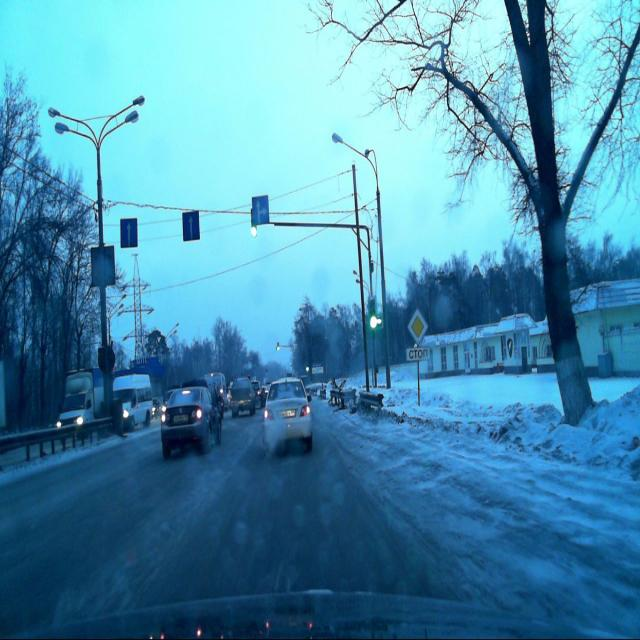object: (182, 210, 202, 244), (252, 194, 270, 228), (121, 217, 138, 249), (407, 348, 430, 362), (419, 365, 421, 408)
road sign: (408, 308, 428, 345)
